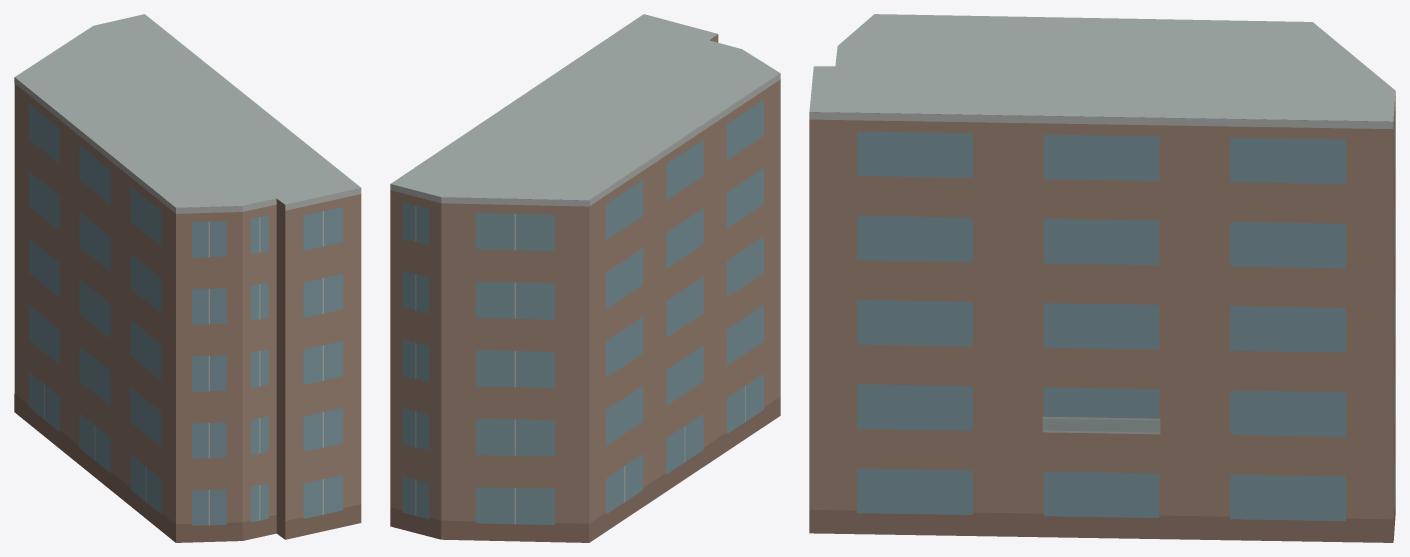
Rendered from survey-upis-32697956.glb.
3 renders of one model, left to right at view 1: azimuth 30°, elevation 25°; view 2: azimuth 150°, elevation 25°; view 3: azimuth 270°, elevation 25°, orthographic. The views are drawn at different scales.
Parts seen in each view (by area): view 1: survey-upis-32697956.tmp; view 2: survey-upis-32697956.tmp; view 3: survey-upis-32697956.tmp.
Boxes of the visible parts, bbox=[...] form: survey-upis-32697956.tmp: bbox=[14, 14, 361, 542]; survey-upis-32697956.tmp: bbox=[390, 14, 780, 542]; survey-upis-32697956.tmp: bbox=[809, 14, 1395, 542].
Bounding box in the file's own units: 7.37 × 13.45 × 16.97.
